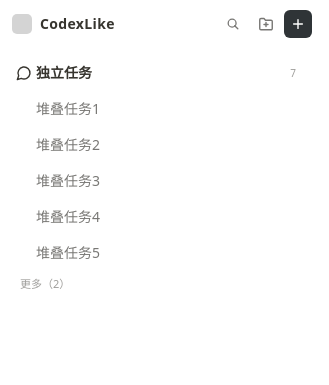
组内活跃任务默认 5 条，「更多」展开（预览限额与队列条同口径） › 点击「更多」展开全部并变「收起」，再点回到前 5 条
Check: the number of list items with test id "task-row" is 5, box [12, 92, 304, 126]; [12, 128, 304, 162]; [12, 164, 304, 198]; [12, 200, 304, 234]; [12, 236, 304, 270]
Step 1. Click the button with test id "toggle-more-tasks" → (45,284), box [12, 272, 304, 296]
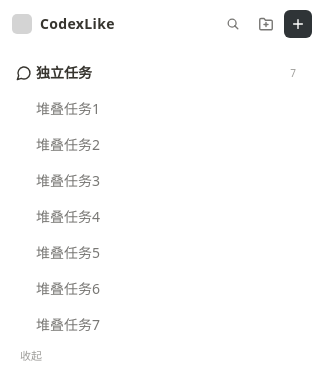
Check: the number of list items with test id "task-row" is 7
Check: the button with test id "toggle-more-tasks" reads "收起"
Step 2. Click the button with test id "toggle-more-tasks" → (31,356), box [12, 344, 304, 368]
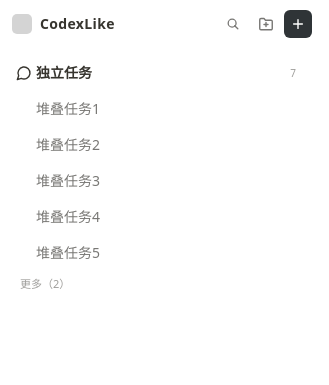
Check: the number of list items with test id "task-row" is 5, box [12, 92, 304, 126]; [12, 128, 304, 162]; [12, 164, 304, 198]; [12, 200, 304, 234]; [12, 236, 304, 270]
Check: the button with test id "toggle-more-tasks" reads "更多（2）", box [12, 272, 304, 296]
